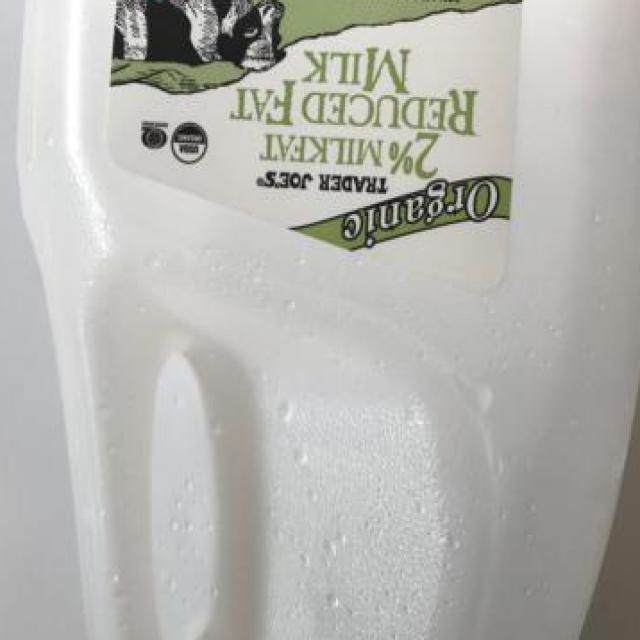organic: (8, 6, 628, 633)
